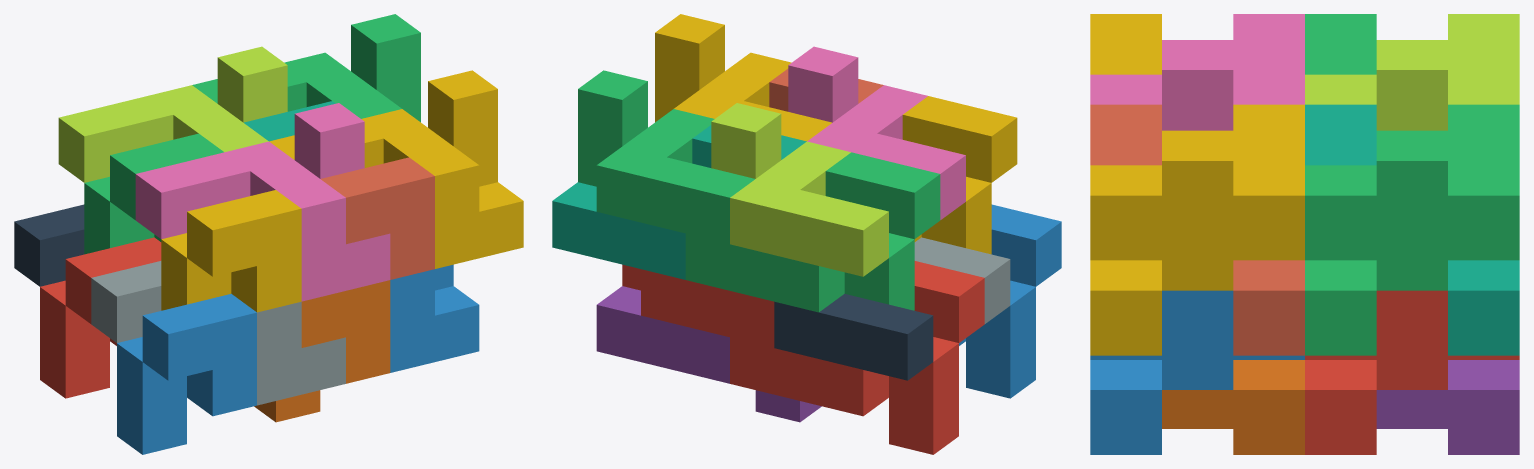
File: tiling.obj
3 views of the same model, side by side, from view 1: azimuth 30°, elevation 25°; view 2: azimuth 150°, elevation 25°; view 3: azimuth 270°, elevation 25° (orthographic). The views are drawn at different scales.
Visible parts, largest first — view 1: copy_2_domain_4, copy_2_domain_8, copy_1_domain_2, copy_2_domain_3, copy_1_domain_4, copy_2_domain_2, copy_2_domain_7, copy_1_domain_1, copy_1_domain_8, copy_1_domain_6, copy_2_domain_6, copy_1_domain_3 (+2 smaller); view 2: copy_2_domain_3, copy_2_domain_7, copy_1_domain_1, copy_1_domain_3, copy_2_domain_4, copy_1_domain_2, copy_2_domain_8, copy_2_domain_1, copy_1_domain_4, copy_1_domain_5, copy_1_domain_7, copy_2_domain_5 (+2 smaller); view 3: copy_2_domain_7, copy_2_domain_8, copy_2_domain_3, copy_2_domain_4, copy_2_domain_6, copy_2_domain_5, copy_1_domain_7, copy_1_domain_8, copy_1_domain_5, copy_1_domain_6, copy_1_domain_3, copy_1_domain_4.
Part boxes in pixels (x1=…): copy_2_domain_4: x1=135, y1=103, x2=390, y2=301; copy_2_domain_8: x1=269, y1=70, x2=523, y2=268; copy_1_domain_2: x1=117, y1=293, x2=256, y2=454; copy_2_domain_3: x1=58, y1=46, x2=287, y2=182; copy_1_domain_4: x1=161, y1=190, x2=301, y2=312; copy_2_domain_2: x1=91, y1=261, x2=345, y2=405; copy_2_domain_7: x1=192, y1=14, x2=420, y2=122; copy_1_domain_1: x1=40, y1=237, x2=161, y2=398; copy_1_domain_8: x1=321, y1=157, x2=434, y2=279; copy_1_domain_6: x1=254, y1=280, x2=390, y2=422; copy_2_domain_6: x1=390, y1=264, x2=479, y2=372; copy_1_domain_3: x1=84, y1=133, x2=223, y2=254; copy_2_domain_3: x1=711, y1=103, x2=888, y2=276; copy_2_domain_7: x1=578, y1=70, x2=754, y2=244; copy_1_domain_1: x1=730, y1=261, x2=984, y2=454; copy_1_domain_3: x1=685, y1=152, x2=940, y2=312; copy_2_domain_4: x1=788, y1=46, x2=965, y2=219; copy_1_domain_2: x1=959, y1=204, x2=1061, y2=398; copy_2_domain_8: x1=655, y1=14, x2=831, y2=141; copy_2_domain_1: x1=774, y1=293, x2=933, y2=380; copy_1_domain_4: x1=902, y1=96, x2=1017, y2=254; copy_1_domain_5: x1=596, y1=286, x2=821, y2=422; copy_1_domain_7: x1=552, y1=125, x2=806, y2=279; copy_2_domain_5: x1=622, y1=264, x2=774, y2=347; copy_2_domain_7: x1=1305, y1=104, x2=1519, y2=355; copy_2_domain_8: x1=1090, y1=104, x2=1304, y2=355; copy_2_domain_3: x1=1305, y1=14, x2=1519, y2=130; copy_2_domain_4: x1=1090, y1=14, x2=1304, y2=130; copy_2_domain_6: x1=1090, y1=290, x2=1304, y2=454; copy_2_domain_5: x1=1305, y1=290, x2=1519, y2=454; copy_1_domain_7: x1=1305, y1=104, x2=1519, y2=355; copy_1_domain_8: x1=1090, y1=104, x2=1304, y2=355; copy_1_domain_5: x1=1376, y1=360, x2=1519, y2=454; copy_1_domain_6: x1=1162, y1=360, x2=1304, y2=454; copy_1_domain_3: x1=1305, y1=14, x2=1376, y2=74; copy_1_domain_4: x1=1090, y1=14, x2=1161, y2=74.
Bounding box in the file's own units: 8 × 6 × 6.
